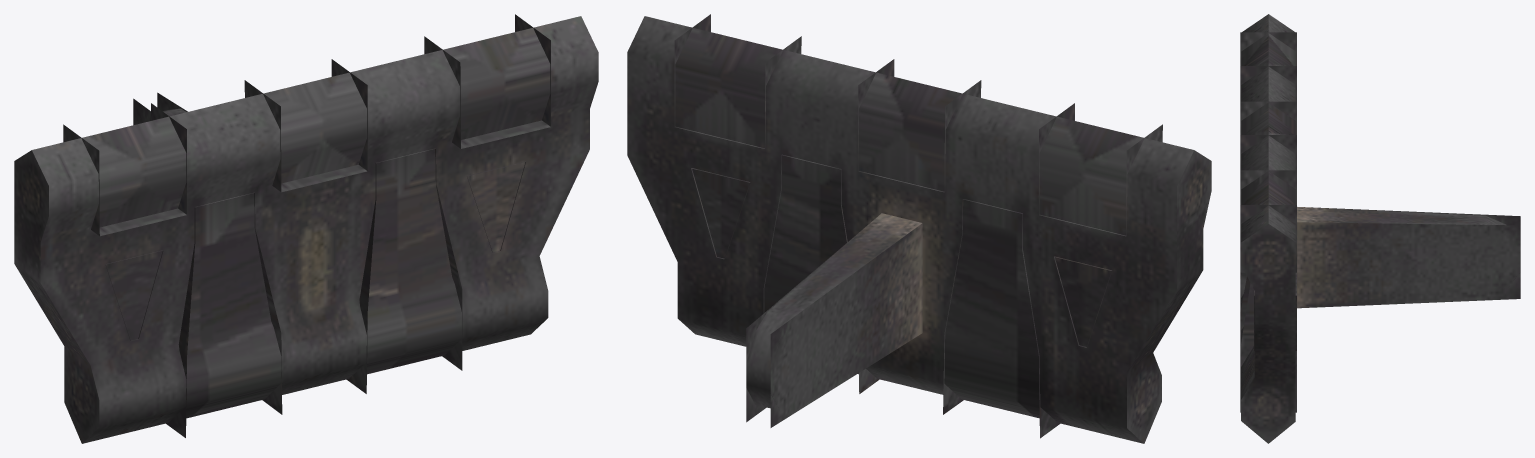
File: track1.glb
3 views of the same model, side by side, from view 1: azimuth 30°, elevation 25°; view 2: azimuth 150°, elevation 25°; view 3: azimuth 270°, elevation 25° (orthographic). The views are drawn at different scales.
Parts seen in each view (by area): view 1: set_0_group_0; view 2: set_0_group_0; view 3: set_0_group_0.
Part boxes in pixels (x1,y1,x2,y2): set_0_group_0: [14, 14, 598, 443]; set_0_group_0: [627, 14, 1211, 443]; set_0_group_0: [1240, 14, 1520, 443].
Bounding box in the file's own units: 0.22 × 0.1183 × 0.1242.
Materials: 1 (1 with a texture image).
